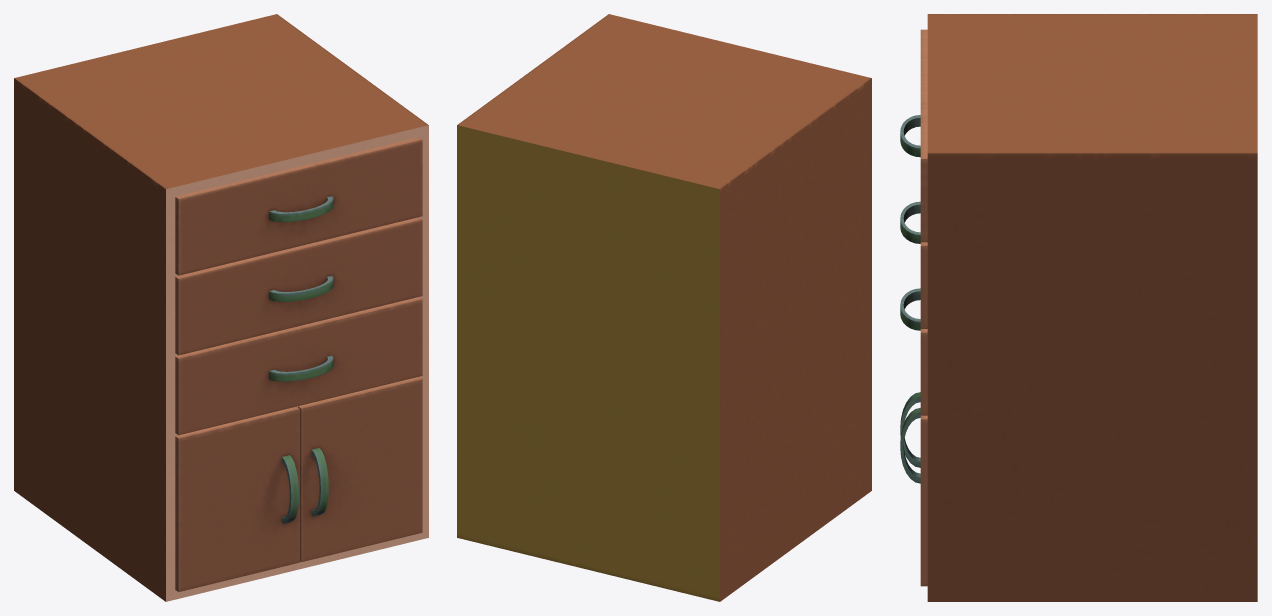
The model's file is Drawer_Cabinet.FBX.
3 views of the same model, side by side, from view 1: azimuth 30°, elevation 25°; view 2: azimuth 150°, elevation 25°; view 3: azimuth 270°, elevation 25° (orthographic). The views are drawn at different scales.
Visible parts, largest first — view 1: Cabinet, Drawer_A, Drawer_C, Drawer_B, Door_Left, Door_Right; view 2: Cabinet; view 3: Cabinet, Drawer_A, Door_Right, Drawer_C, Drawer_B, Door_Left.
Part boxes in pixels (x1,y1,x2,y2): Cabinet: (14,14,428,601); Drawer_A: (175,137,422,275); Drawer_C: (175,297,422,435); Drawer_B: (175,217,422,355); Door_Left: (175,406,299,591); Door_Right: (298,376,422,562); Cabinet: (457,14,871,601); Cabinet: (927,14,1257,601); Drawer_A: (900,29,927,242); Door_Right: (900,408,927,586); Drawer_C: (900,288,927,415); Drawer_B: (900,201,927,328); Door_Left: (900,392,920,467).
Size of the model in its own units: 50 by 75 by 54.17.
